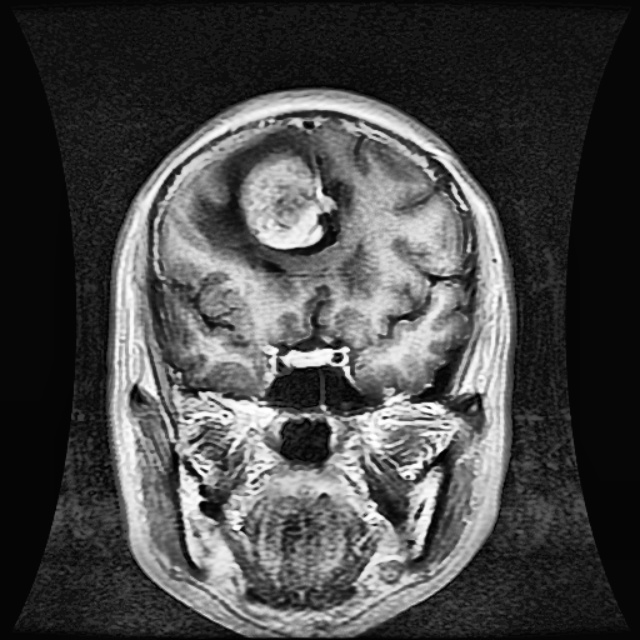Glioma: (238, 152, 334, 249)
